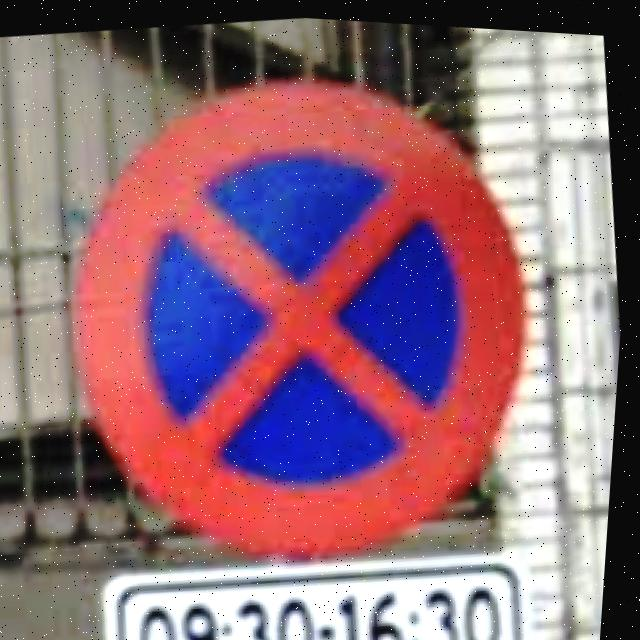nopark: (75, 77, 530, 559)
